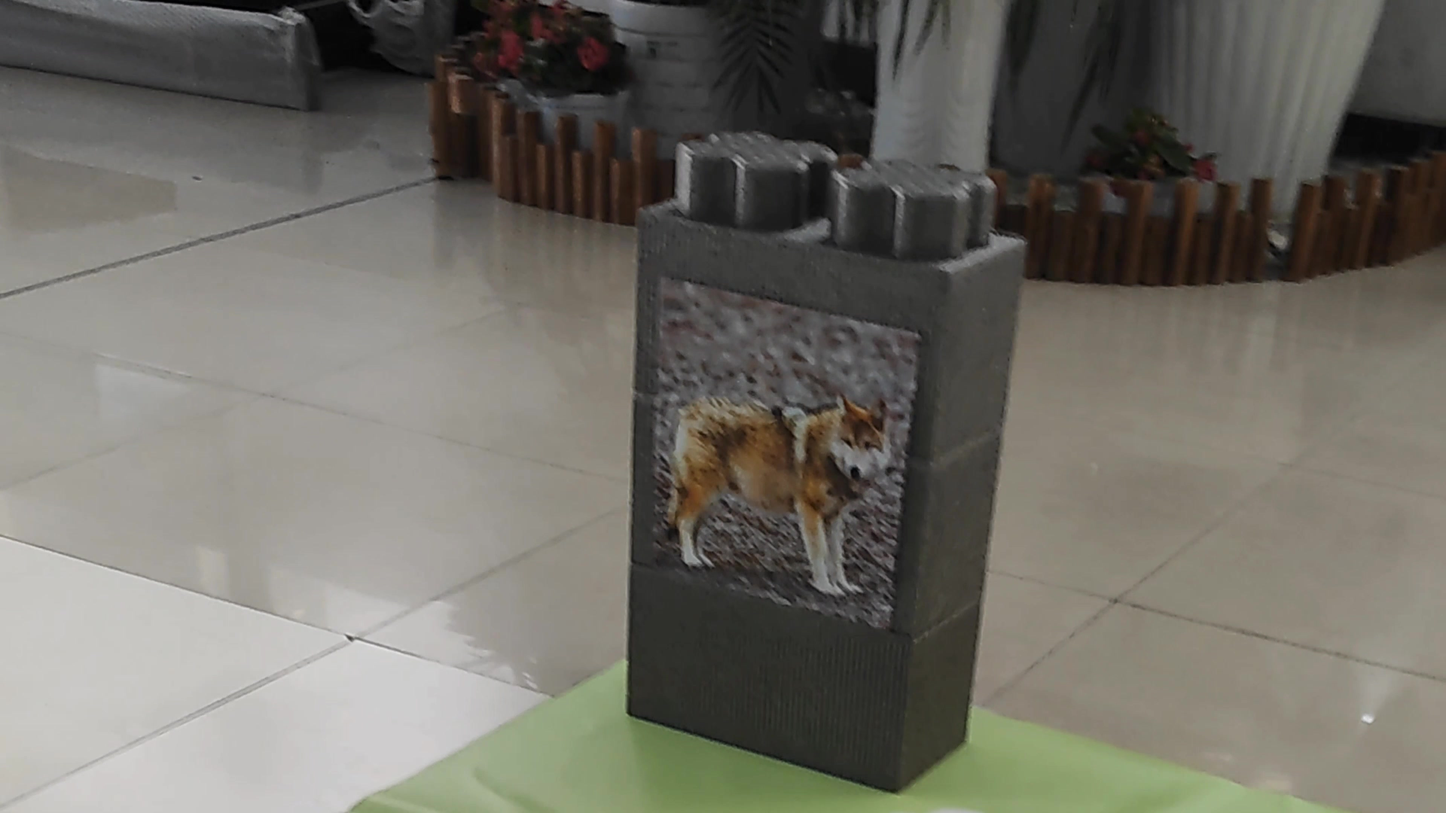wolf: (639, 364, 914, 598)
